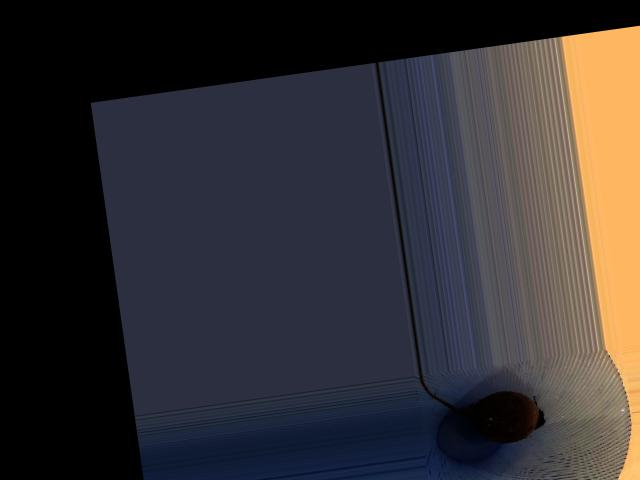beet: (420, 357, 548, 453)
